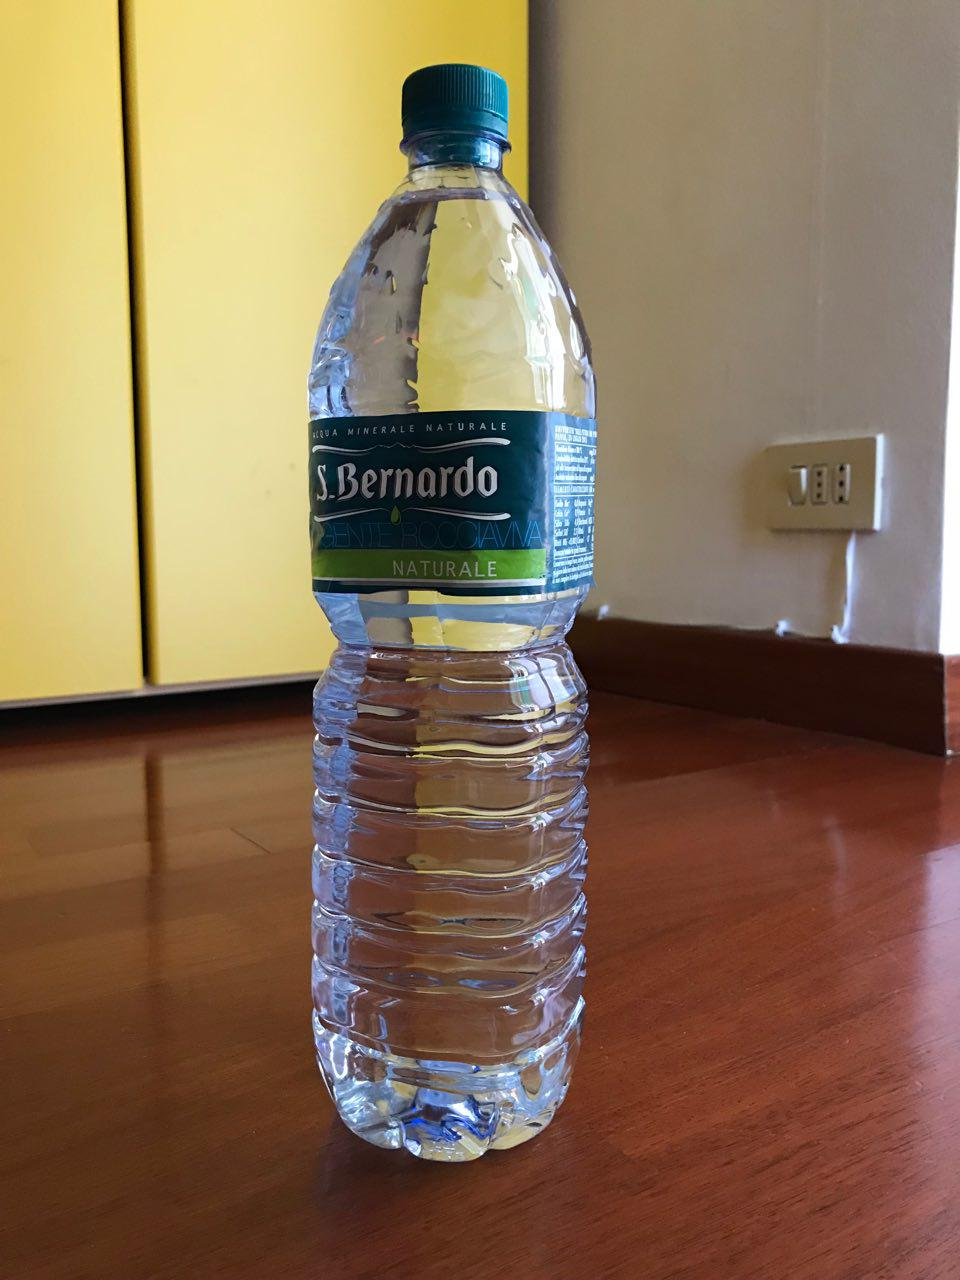san_bernardo: (304, 60, 598, 1163)
